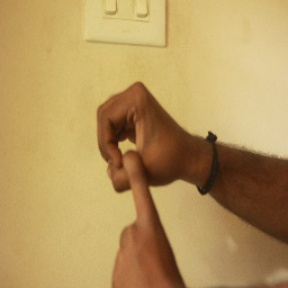Q: (94, 78, 198, 288)
